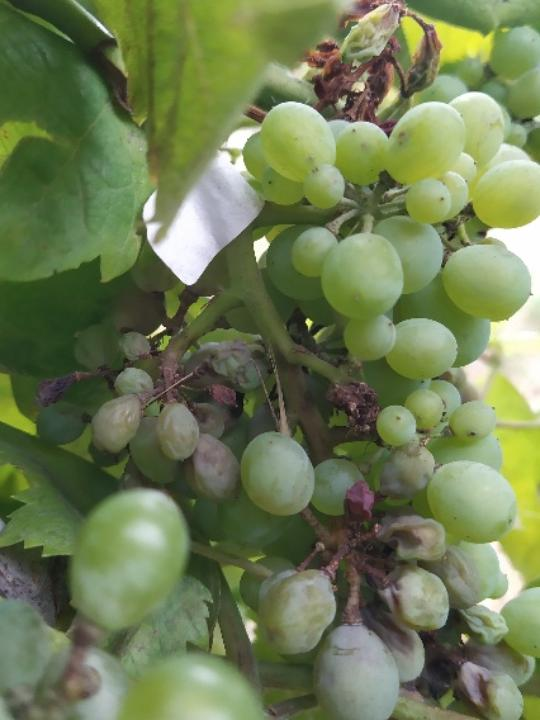grape: (85, 85, 540, 720)
